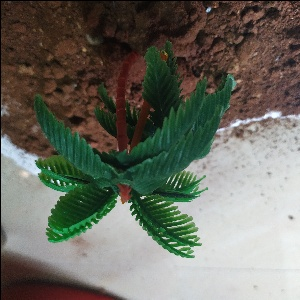plant: (18, 81, 242, 272)
